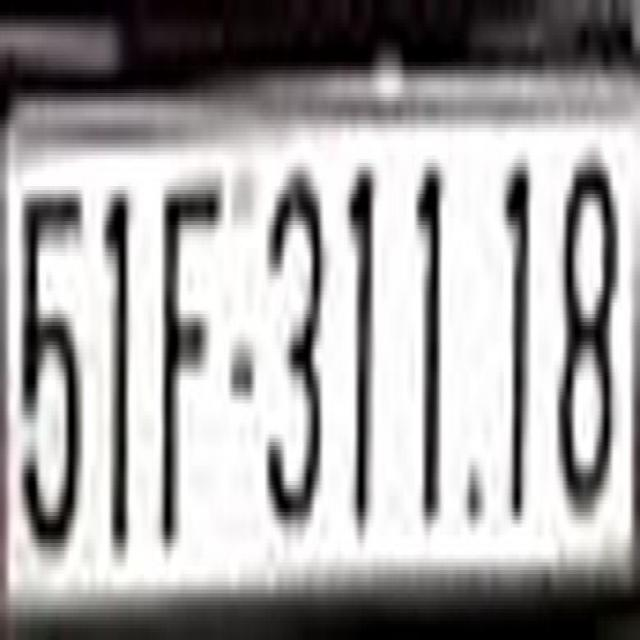1: (338, 152, 377, 536), (412, 152, 443, 536), (100, 170, 128, 554), (500, 163, 528, 535)
3: (266, 163, 320, 535)
5: (20, 167, 79, 547)
8: (556, 143, 620, 520)
F: (160, 163, 222, 539)
